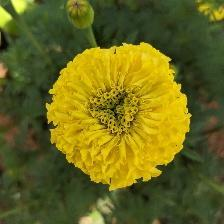marigold: (44, 40, 195, 194), (194, 1, 224, 26)
